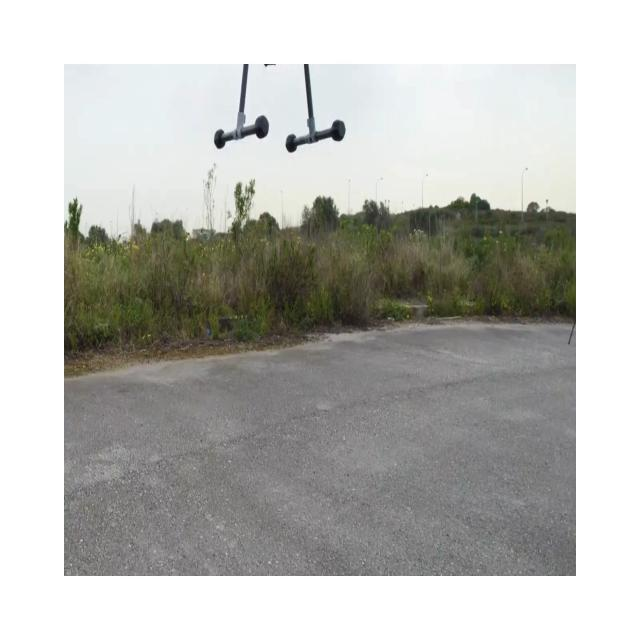drone: (213, 62, 346, 153)
